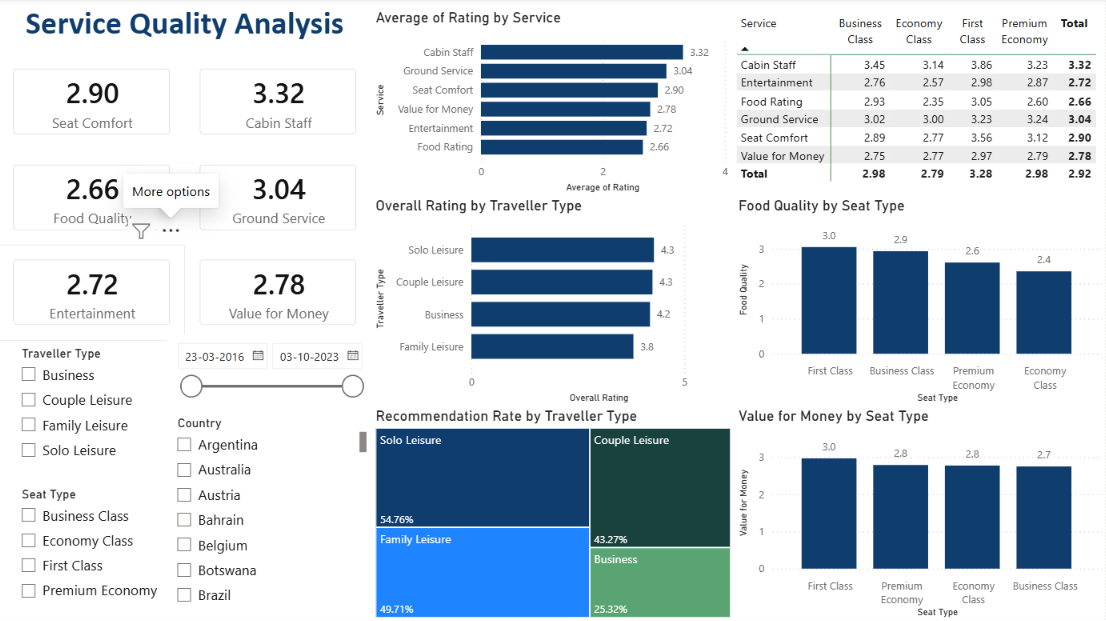

This screenshot's page, from the dashboard's own definition file:
{"tool":"powerbi","page":{"name":"Service Quality Analysis","canvas":[1280,720],"ordinal":1},"visuals":[{"type":"textbox","box":[0,0,430.3,64.3],"z":0},{"type":"cardVisual","fields":{"Data":["Measure.Seat Comfort"]},"box":[0,64.3,215.1,110.2],"z":1000},{"type":"cardVisual","fields":{"Data":["Measure.Cabin Staff"]},"box":[215.1,64.3,215.1,110.2],"z":2000},{"type":"cardVisual","fields":{"Data":["Measure.Food Quality"]},"box":[0,174.5,215.1,110.2],"z":3000},{"type":"cardVisual","fields":{"Data":["Measure.Ground Service"]},"box":[215.1,174.5,215.1,110.2],"z":4000},{"type":"cardVisual","fields":{"Data":["Measure.Entertainment"]},"box":[0,284.7,215.1,110.2],"z":5000},{"type":"cardVisual","fields":{"Data":["Measure.Value for Money"]},"box":[215.1,284.7,215.1,110.2],"z":6000},{"type":"clusteredBarChart","fields":{"Category":["ba_reviews.Traveller Type"],"Y":["Measure.Overall Rating"]},"box":[430.3,229.6,419.8,242.7],"z":7000},{"type":"clusteredColumnChart","fields":{"Category":["ba_reviews.Seat Type"],"Y":["Measure.Value for Money"]},"box":[850.1,472.3,430.3,247.9],"z":8000},{"type":"treemap","fields":{"Group":["ba_reviews.Traveller Type"],"Values":["Measure.Recommendation Rate"]},"box":[430.3,472.3,419.8,247.9],"z":9000},{"type":"pivotTable","fields":{"Values":["Avg(Service_Ratings.Rating)"],"Rows":["Service_Ratings.Service"],"Columns":["Service_Ratings.Seat Type"]},"box":[847.5,13.1,432.9,216.5],"z":10000},{"type":"clusteredBarChart","fields":{"Category":["Service_Ratings.Service"],"Y":["Avg(Service_Ratings.Rating)"]},"box":[430.3,13.1,417.2,216.5],"z":11000},{"type":"clusteredColumnChart","fields":{"Y":["Measure.Food Quality"],"Category":["ba_reviews.Seat Type"]},"box":[850.1,229.6,430.3,242.7],"z":12000},{"type":"slicer","fields":{"Values":["ba_reviews.Traveller Type"]},"box":[14.4,396.2,179.7,162.7],"z":13000},{"type":"slicer","fields":{"Values":["ba_reviews.Seat Type"]},"box":[14.4,558.9,179.7,146.9],"z":14000},{"type":"slicer","fields":{"Values":["ba_reviews.Date"]},"box":[194.2,388.3,236.1,89.2],"z":15000},{"type":"slicer","fields":{"Values":["ba_reviews.Country"]},"box":[194.2,477.5,236.1,228.3],"z":16000}]}

Visuals, with their boxes in screenshot pixels (x1, y1, x2, y2), scaled from the page's 1280x720 canvas onto the 1106x621 screenshot:
textbox: detection(0, 0, 372, 55)
cardVisual - Measure.Seat Comfort: detection(0, 55, 186, 151)
cardVisual - Measure.Cabin Staff: detection(186, 55, 372, 151)
cardVisual - Measure.Food Quality: detection(0, 151, 186, 246)
cardVisual - Measure.Ground Service: detection(186, 151, 372, 246)
cardVisual - Measure.Entertainment: detection(0, 246, 186, 341)
cardVisual - Measure.Value for Money: detection(186, 246, 372, 341)
clusteredBarChart - ba_reviews.Traveller Type x Measure.Overall Rating: detection(372, 198, 735, 407)
clusteredColumnChart - ba_reviews.Seat Type x Measure.Value for Money: detection(735, 407, 1105, 620)
treemap - ba_reviews.Traveller Type x Measure.Recommendation Rate: detection(372, 407, 735, 620)
pivotTable - Avg(Service_Ratings.Rating) x Service_Ratings.Service: detection(732, 11, 1105, 198)
clusteredBarChart - Service_Ratings.Service x Avg(Service_Ratings.Rating): detection(372, 11, 732, 198)
clusteredColumnChart - Measure.Food Quality x ba_reviews.Seat Type: detection(735, 198, 1105, 407)
slicer - ba_reviews.Traveller Type: detection(12, 342, 168, 482)
slicer - ba_reviews.Seat Type: detection(12, 482, 168, 609)
slicer - ba_reviews.Date: detection(168, 335, 372, 412)
slicer - ba_reviews.Country: detection(168, 412, 372, 609)
